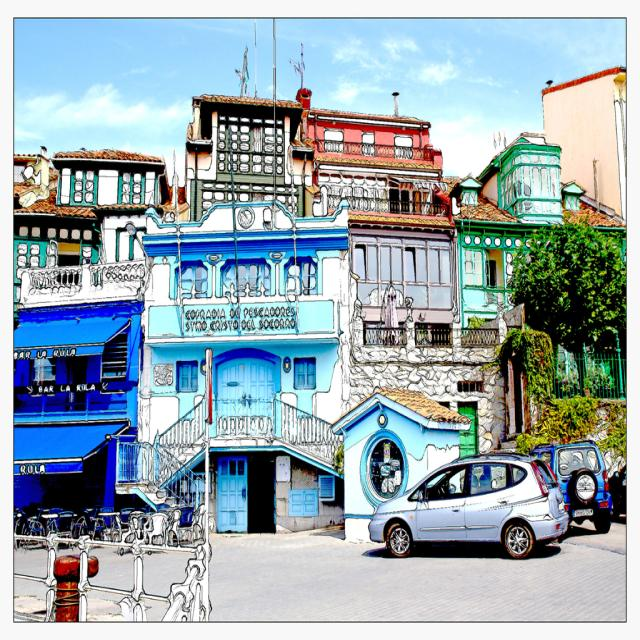car: (367, 447, 570, 556)
